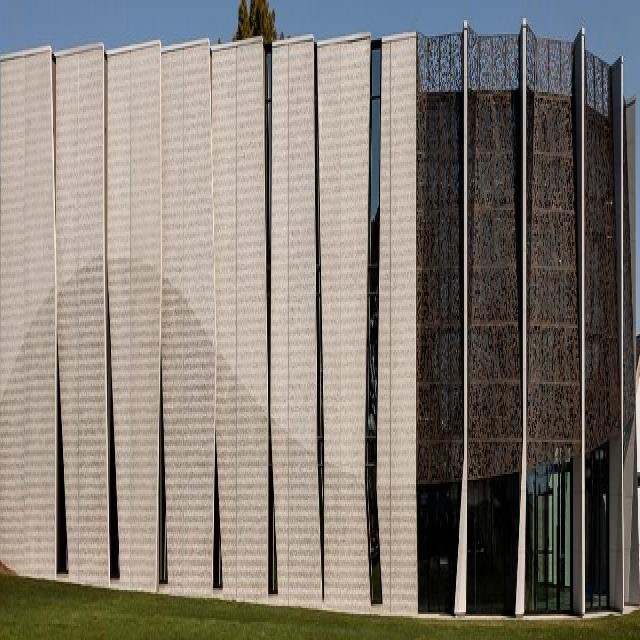door: (527, 473, 574, 618), (585, 438, 611, 615)
wall: (0, 28, 638, 624)
